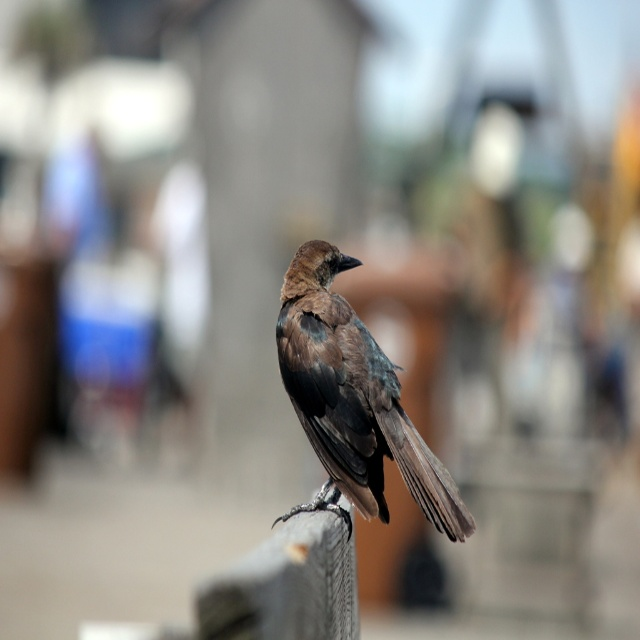Sparrow: (269, 239, 478, 539)
